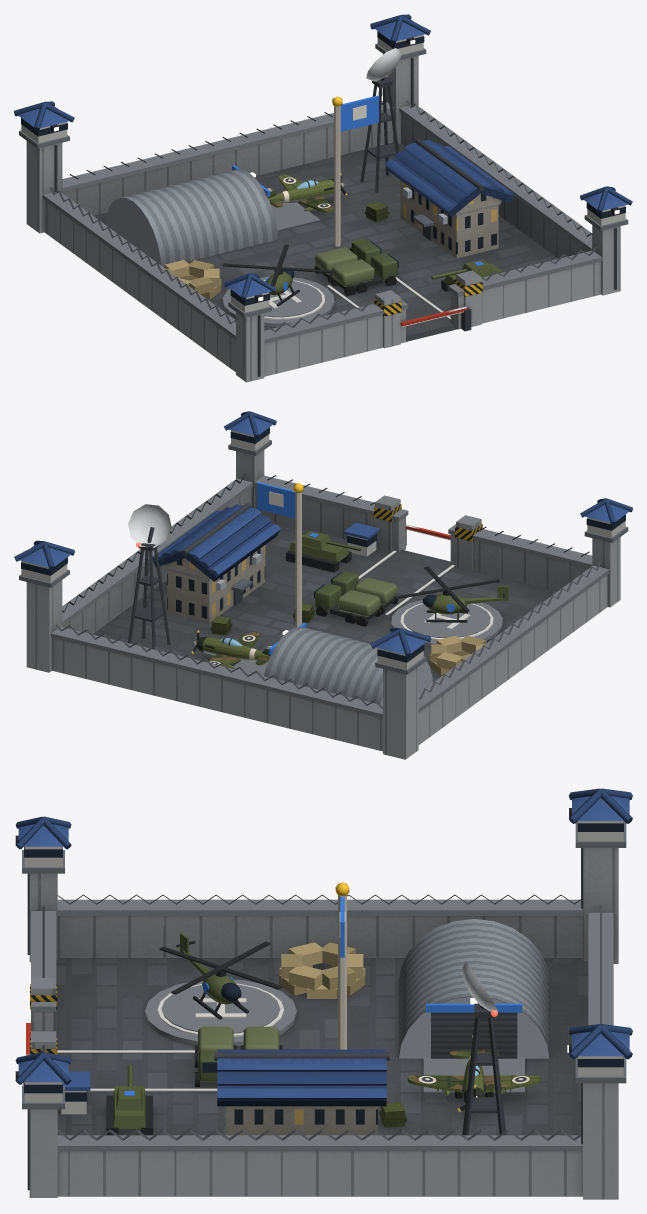
Rendered from military_base_modern_blue.glb.
3 views of the same model, one above another, from view 1: azimuth 30°, elevation 25°; view 2: azimuth 150°, elevation 25°; view 3: azimuth 270°, elevation 25° (orthographic). The views are drawn at different scales.
Visible parts, largest first — view 1: military_base_modern_blue; view 2: military_base_modern_blue; view 3: military_base_modern_blue.
Boxes of the visible parts, left/top/right/bottom form: military_base_modern_blue: left=14, top=14, right=632, bottom=382; military_base_modern_blue: left=14, top=411, right=632, bottom=759; military_base_modern_blue: left=14, top=788, right=632, bottom=1199.
Size of the model in its own units: 1.23 by 0.456 by 1.22.
Materials: 4 (1 with a texture image).
